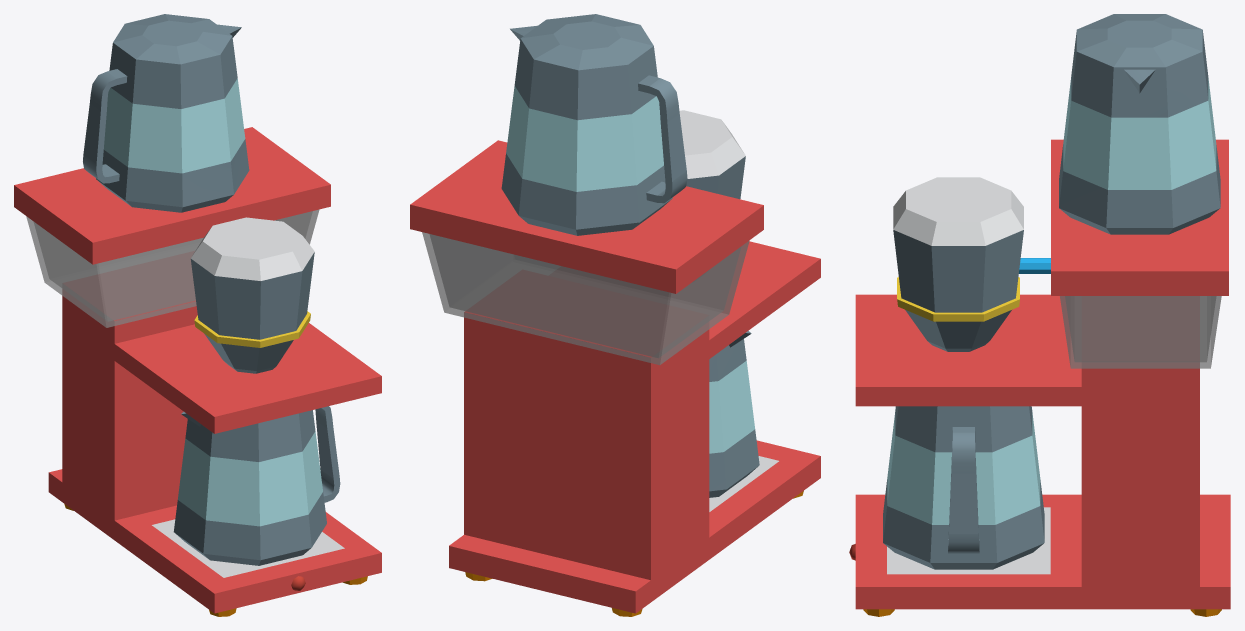
Rendered from Cafe Machine lv3.fbx.
3 renders of one model, left to right at view 1: azimuth 30°, elevation 25°; view 2: azimuth 150°, elevation 25°; view 3: azimuth 270°, elevation 25°, orthographic. The views are drawn at different scales.
Visible parts, largest first — view 1: Cafe_Machine_lv3; view 2: Cafe_Machine_lv3; view 3: Cafe_Machine_lv3.
Boxes of the visible parts, left/top/right/bottom form: Cafe_Machine_lv3: left=14, top=14, right=381, bottom=616; Cafe_Machine_lv3: left=410, top=14, right=820, bottom=616; Cafe_Machine_lv3: left=849, top=14, right=1230, bottom=616.
Size of the model in its own units: 80.53 by 154 by 98.73.
